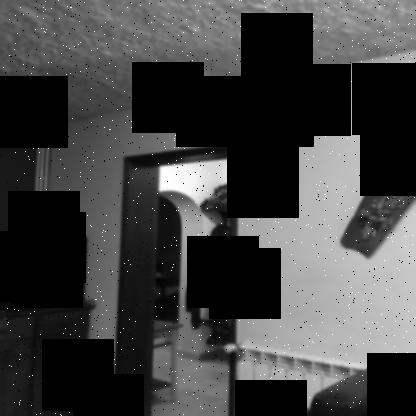Porte: (110, 139, 242, 415)
